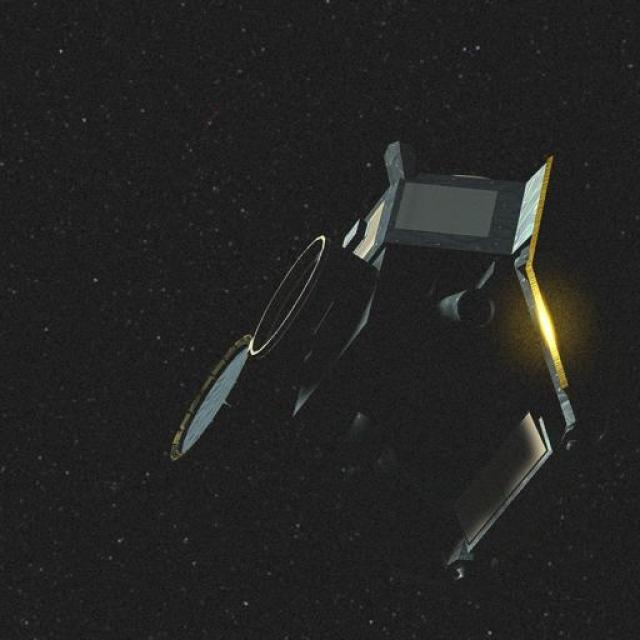cheops: (149, 158, 598, 551)
